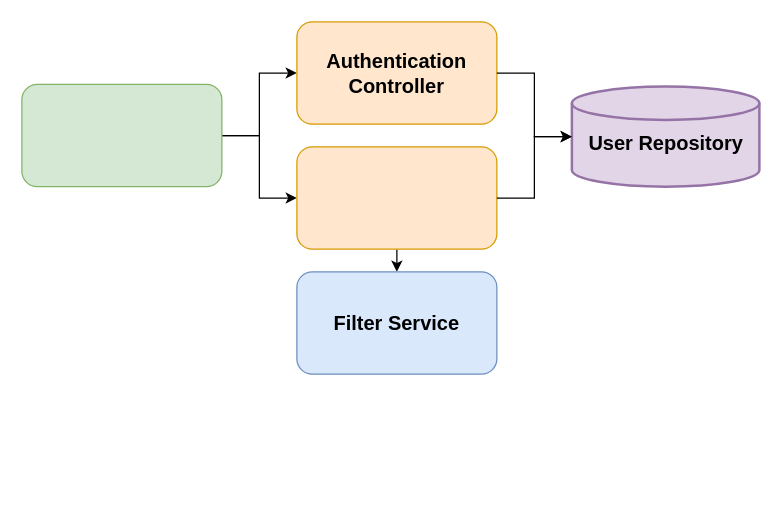
Some shapes in this 783 by 519 pixel diagram are drawn without their labels. Each missing label, with the centre of its shape:
"Single-Page Web Application" goes at (121,135).
"User Controller" goes at (396,197).
